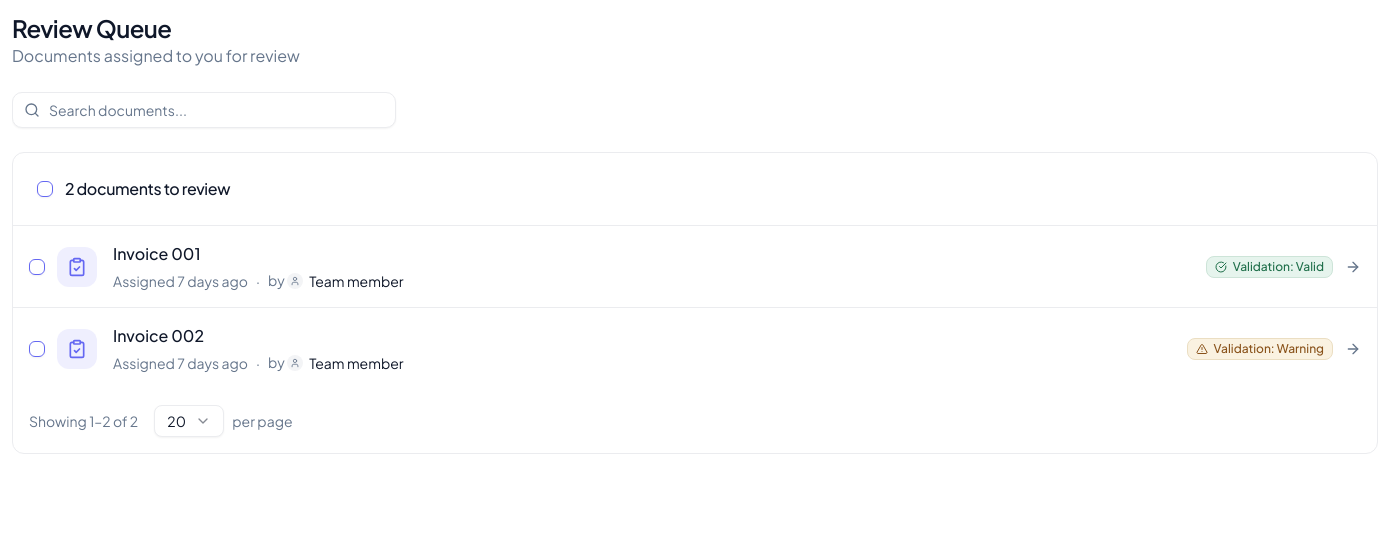
Scenario: ReviewQueuePage › selects and deselects individual documents
Click the checkbox named "Select Invoice 001" at (37, 266), box [29,258,45,274]
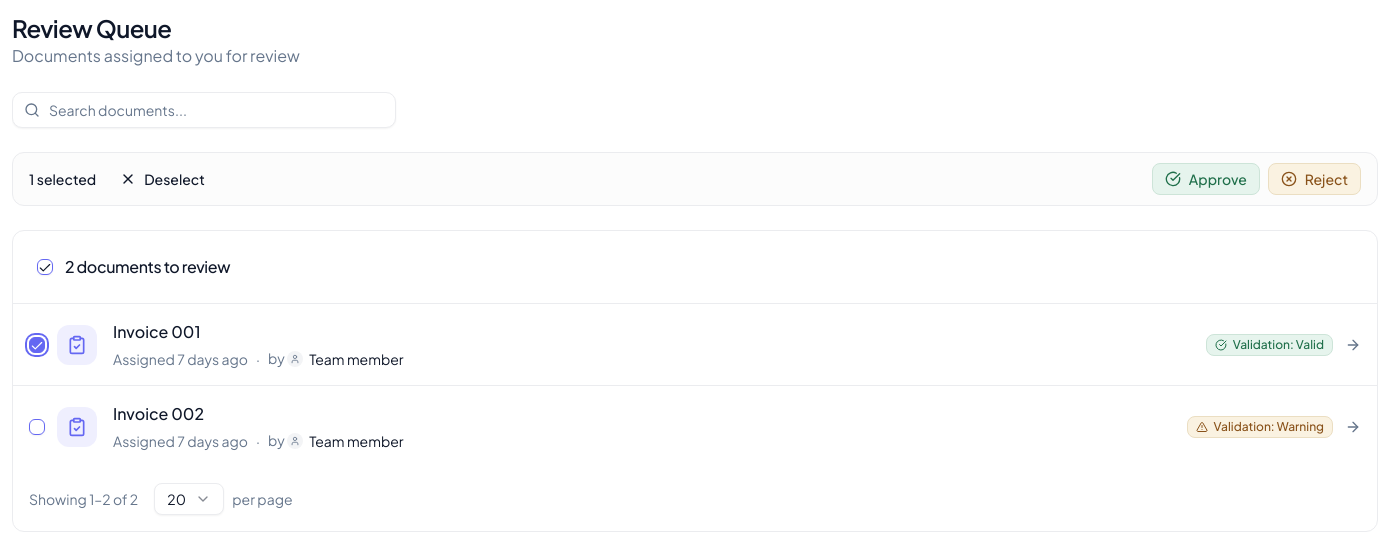
Check: the text "1 selected" is shown, box [29,169,96,189]
# Click again to deselect
Click the checkbox named "Select Invoice 001" at (37, 344), box [29,336,45,352]
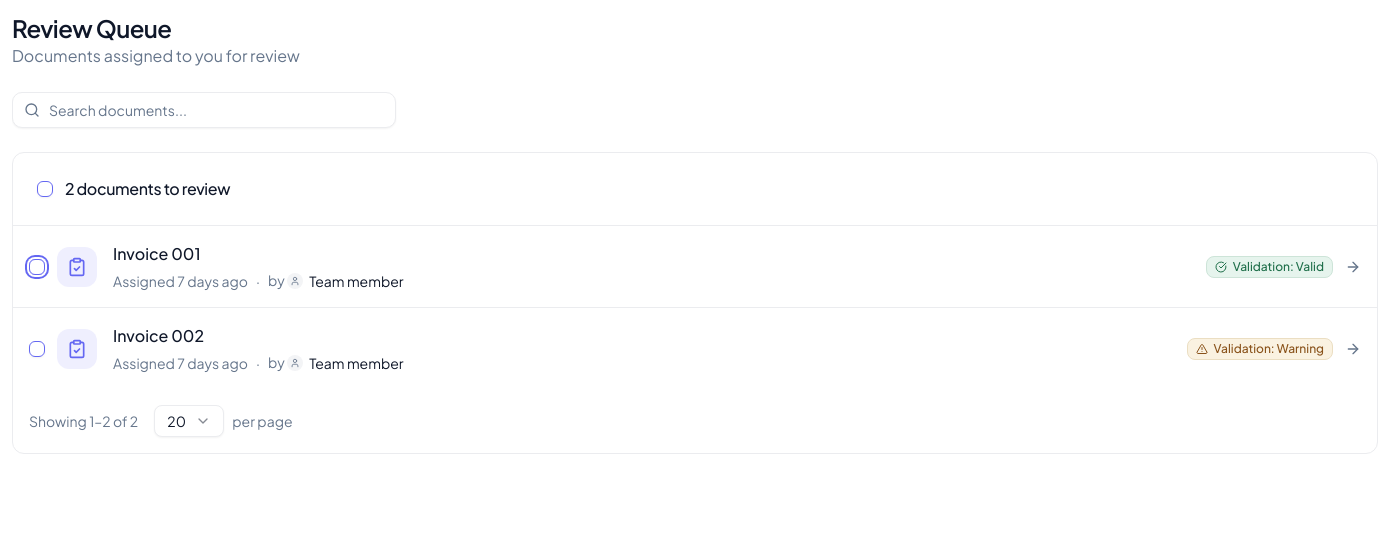
Check: the text "1 selected" is gone
